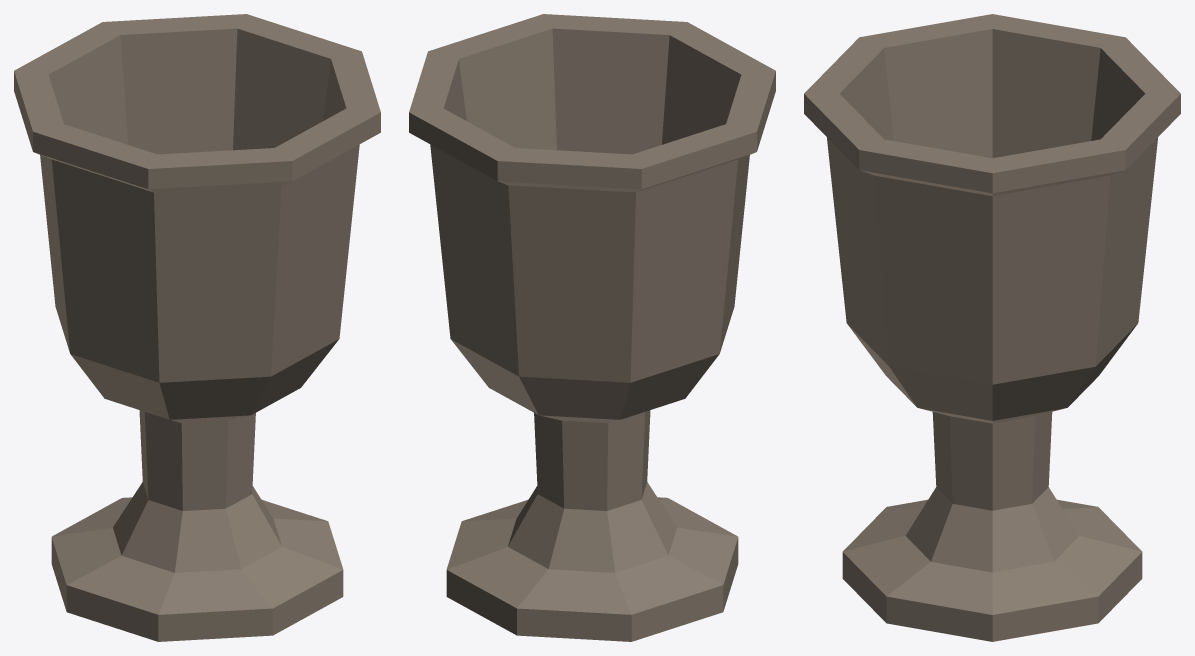
Rendered from SM_Item_Cup_01.glb.
3 renders of one model, left to right at view 1: azimuth 30°, elevation 25°; view 2: azimuth 150°, elevation 25°; view 3: azimuth 270°, elevation 25°, orthographic.
Visible parts, largest first — view 1: SM_Item_Cup_01_00; view 2: SM_Item_Cup_01_00; view 3: SM_Item_Cup_01_00.
Part boxes in pixels (x1,y1,x2,y2): SM_Item_Cup_01_00: (14, 14, 380, 641); SM_Item_Cup_01_00: (409, 14, 775, 641); SM_Item_Cup_01_00: (804, 14, 1180, 641).
Size of the model in its own units: 0.212 by 0.301 by 0.212.
Materials: 1 (1 with a texture image).
